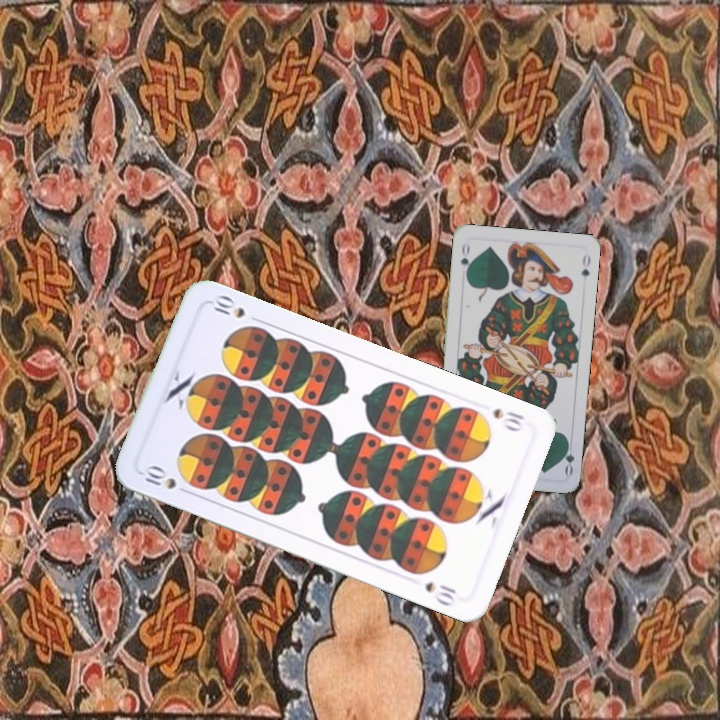GO: (558, 437, 577, 478), (456, 240, 473, 279)
S10: (137, 462, 180, 492), (489, 404, 527, 435)
